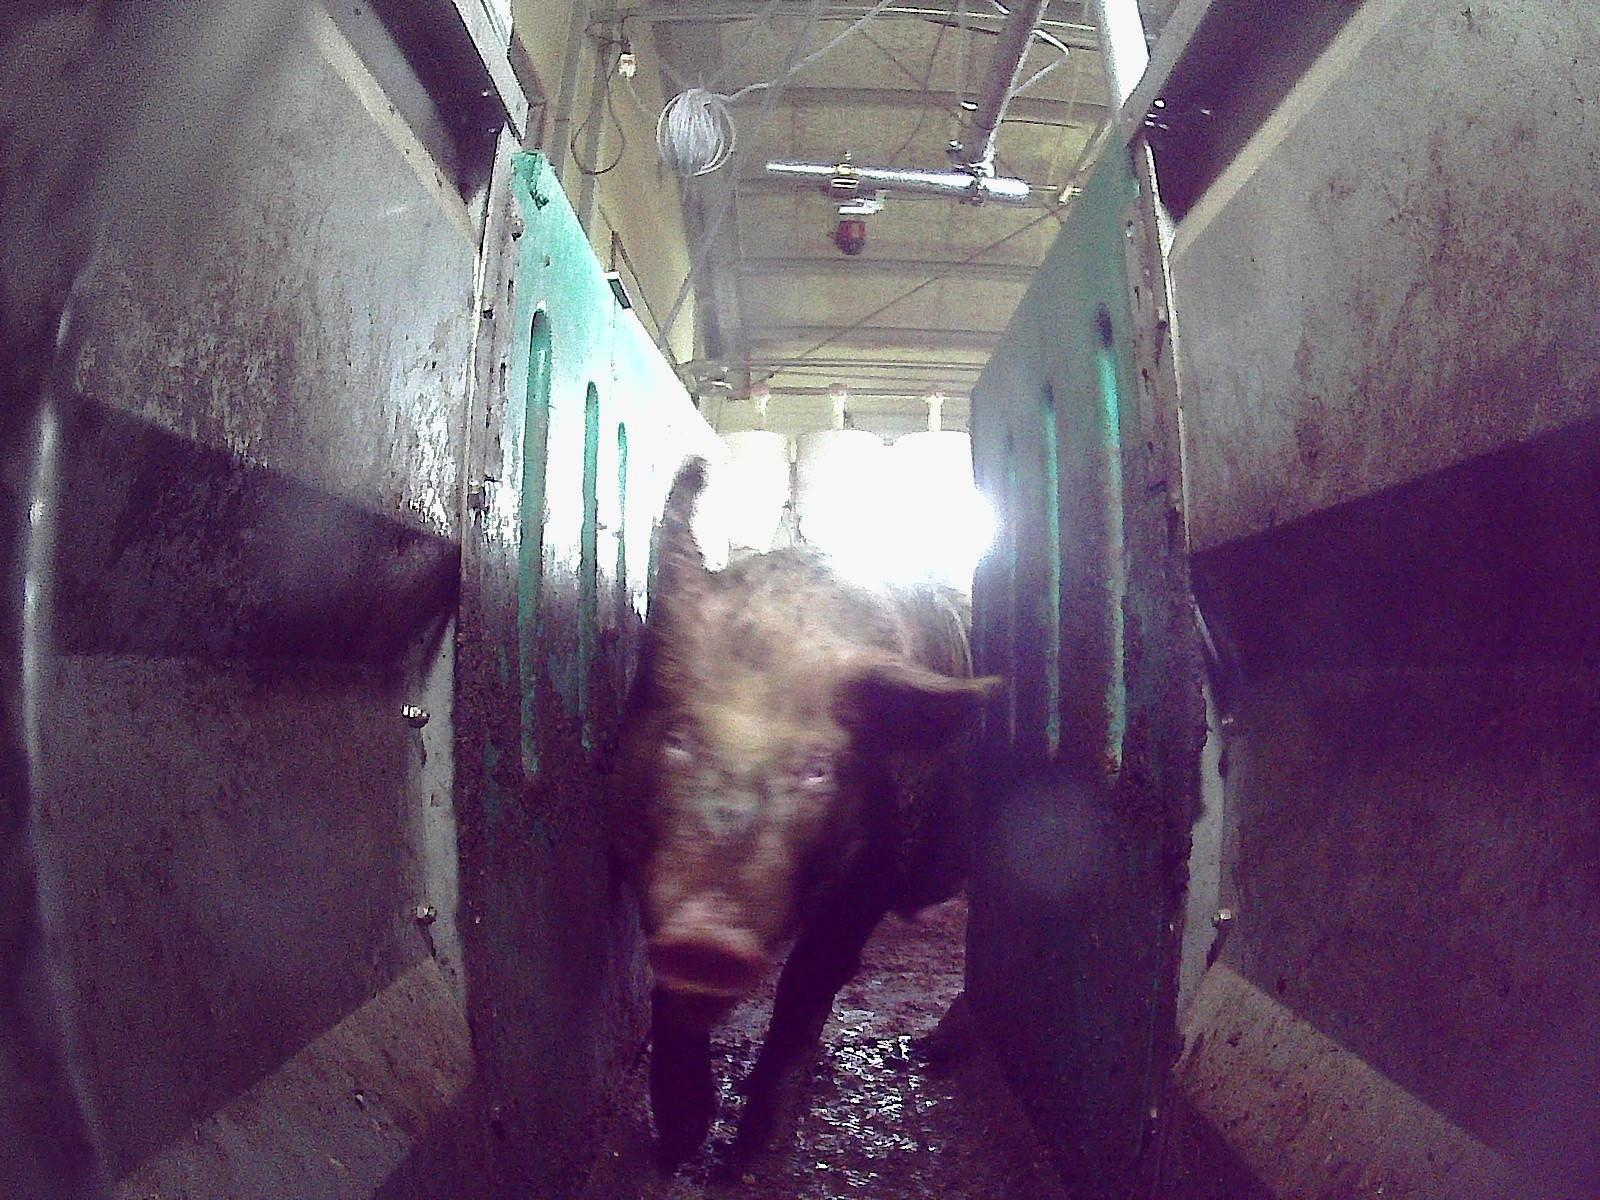Face: (618, 640, 862, 997)
